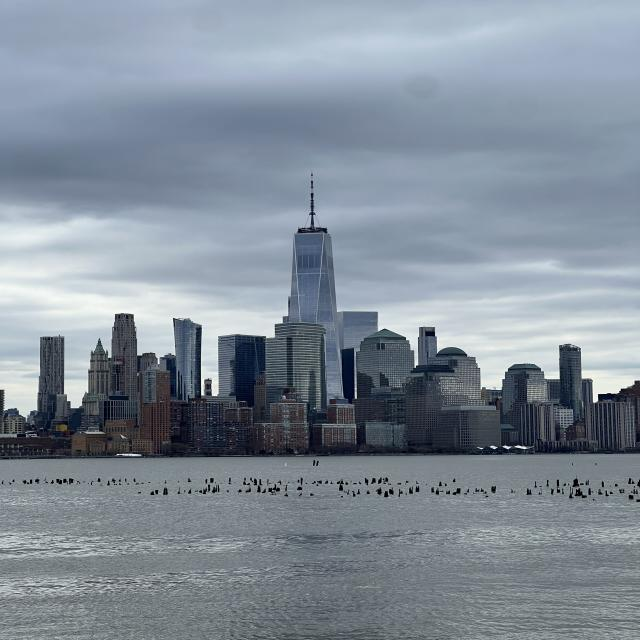WTC: (289, 170, 338, 324)
